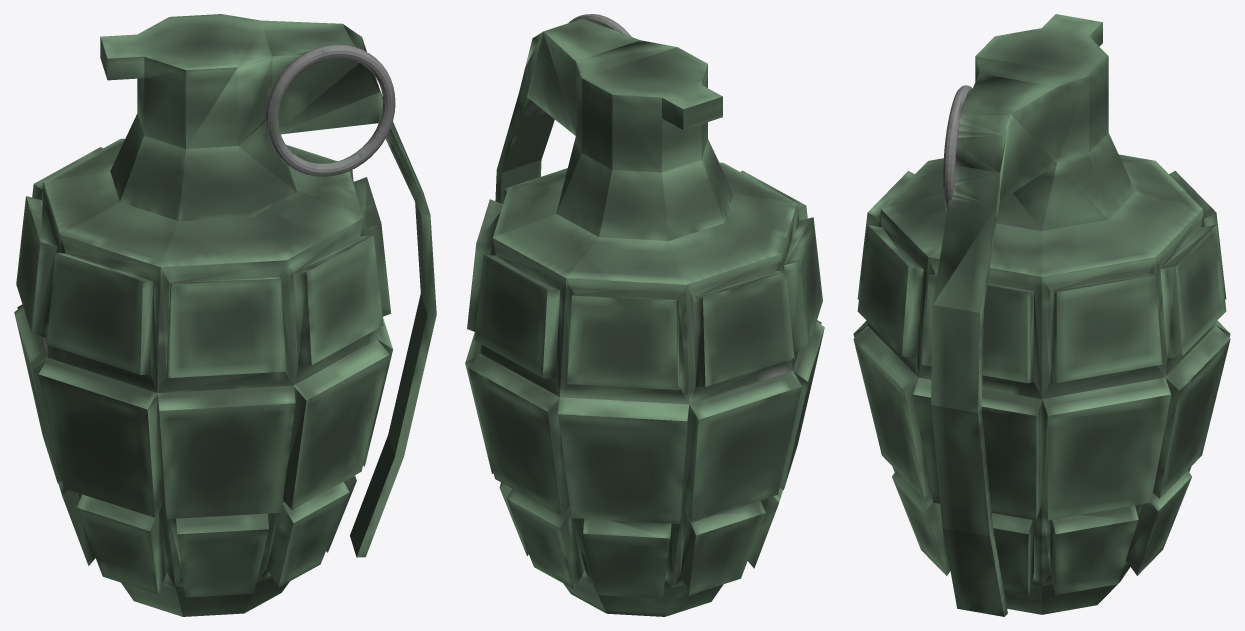
File: grenade.glb
The picture shows the model from 3 angles, left to right: view 1: azimuth 30°, elevation 25°; view 2: azimuth 150°, elevation 25°; view 3: azimuth 270°, elevation 25°; orthographic projection. The views are drawn at different scales.
Visible parts, largest first — view 1: Torus.001; view 2: Torus.001; view 3: Torus.001.
Boxes of the visible parts, bbox=[...] form: Torus.001: bbox=[14, 14, 436, 616]; Torus.001: bbox=[465, 14, 824, 616]; Torus.001: bbox=[853, 14, 1230, 616].
Size of the model in its own units: 0.6714 by 0.9719 by 0.6254.
Materials: 1 (1 with a texture image).
